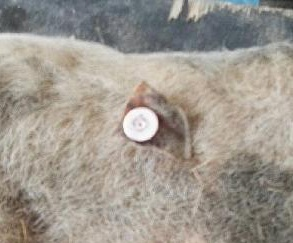text: (108, 99, 172, 152)
